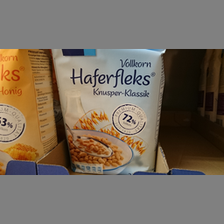cereal: (50, 50, 167, 175)
